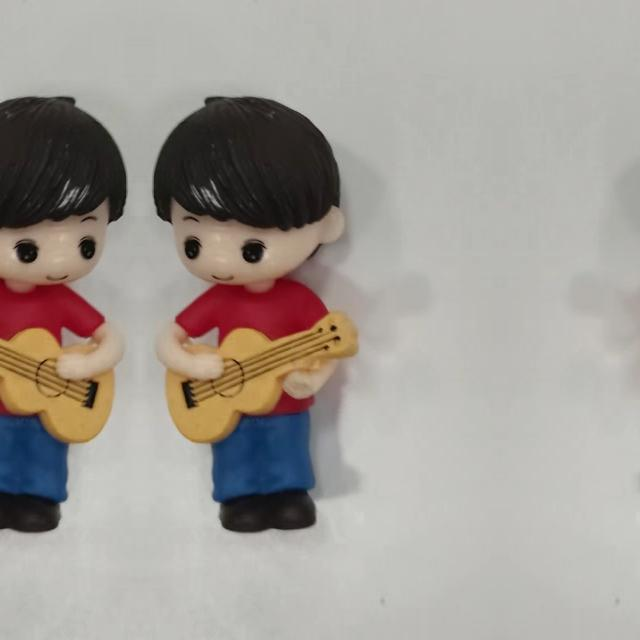man cloth: (173, 282, 341, 416), (0, 282, 107, 416)
man head: (152, 90, 348, 286), (0, 90, 128, 285)
trousers: (198, 415, 322, 533), (0, 415, 82, 533)
